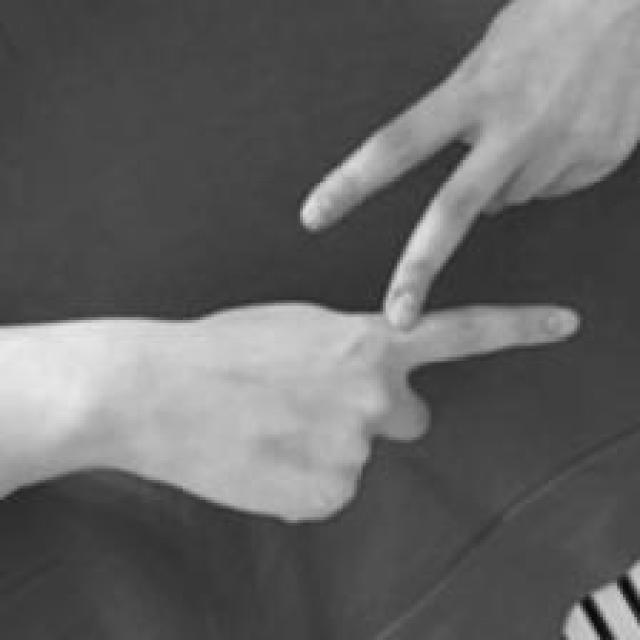Z: (134, 0, 640, 523)
